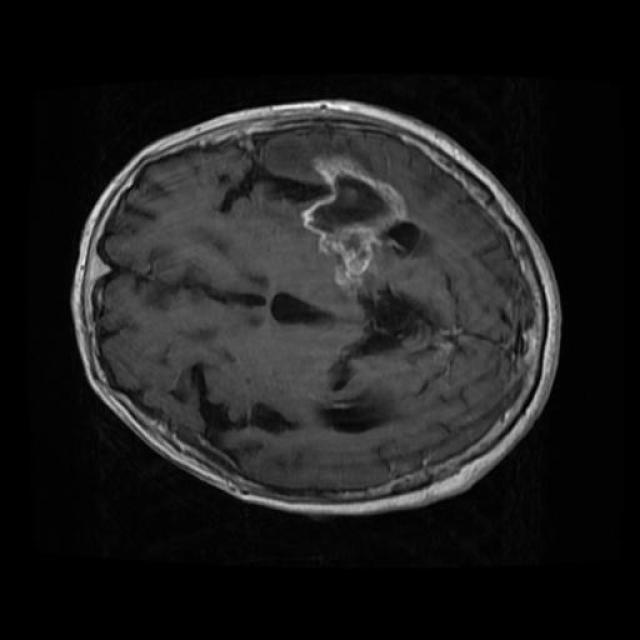Glioma: (301, 154, 410, 288)
